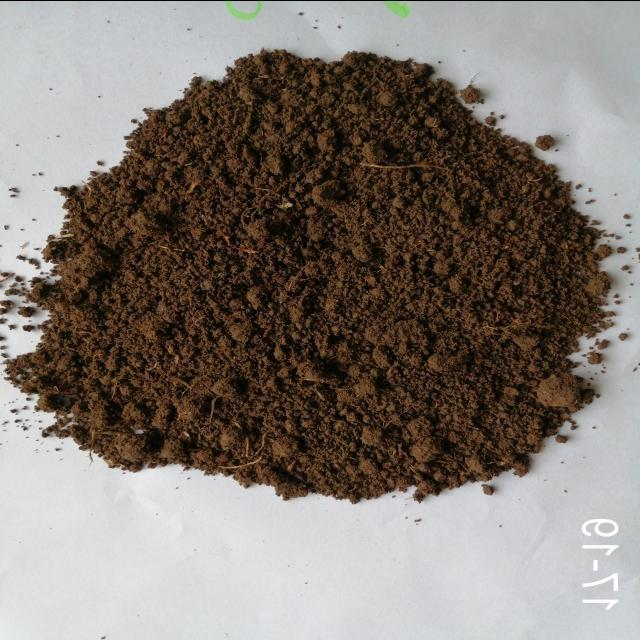soil: (148, 132, 528, 448)
